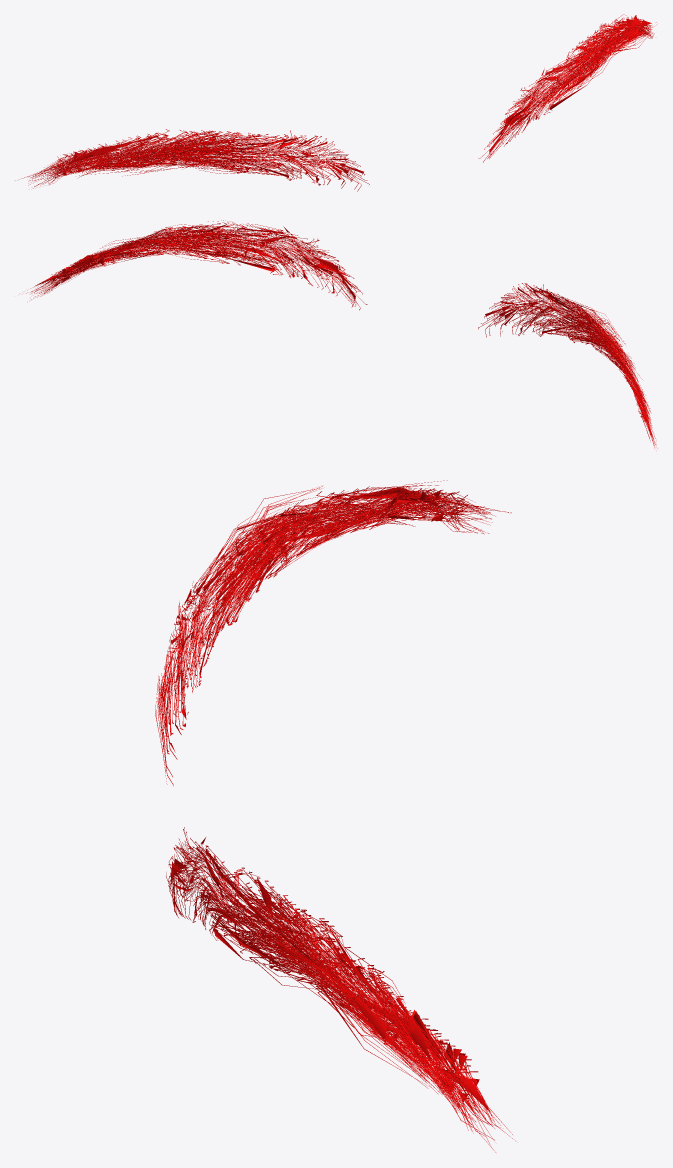
File: mindfront_eyebrows_06_M.glb
3 renders of one model, top to bottom at view 1: azimuth 30°, elevation 25°; view 2: azimuth 150°, elevation 25°; view 3: azimuth 270°, elevation 25°, orthographic. The views are drawn at different scales.
Size of the model in its own units: 0.1247 by 0.0144 by 0.0304.
1 material, 1 textured.
